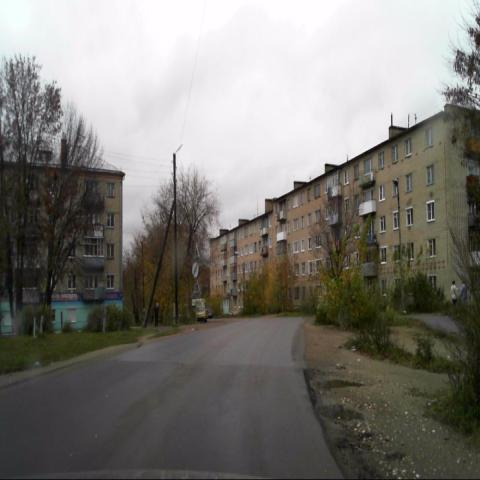3_25: (191, 261, 200, 279)
